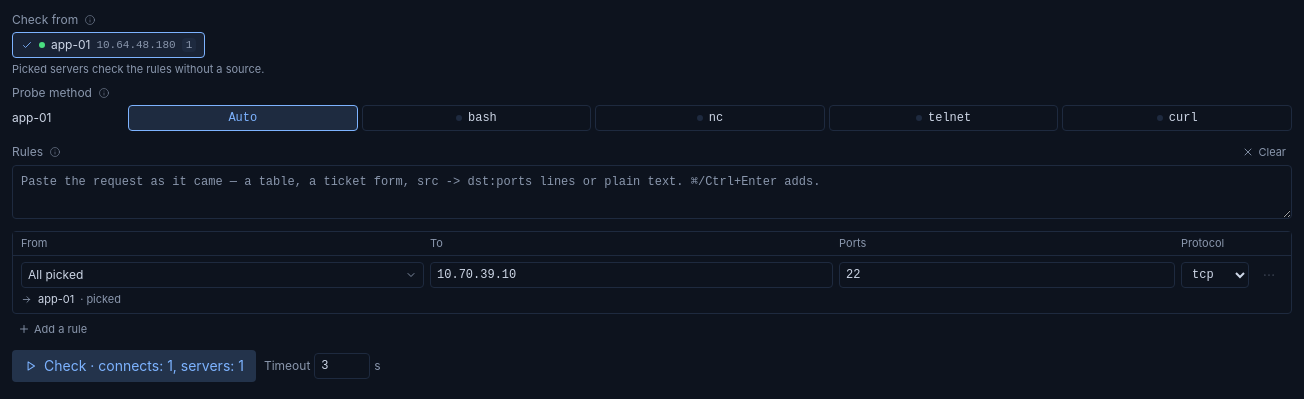
Test: UtilNetCheck › won't run rules without a source when nothing is picked, and says why
Expected: the button with test id "netcheck-run" is enabled, [12,350,256,382]
Click the button with test id "netcheck-pick".
click(109, 45)  # box [13,33,204,57]
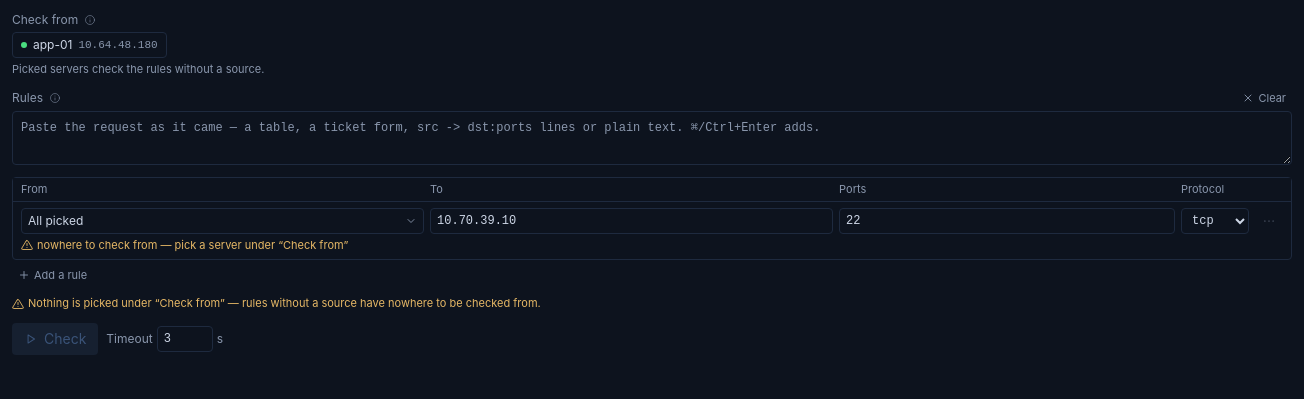
Expected: the element with test id "netcheck-route-none" is shown, [21,238,348,253]
Expected: the element with test id "netcheck-pick-none" is shown, [12,296,541,310]
Expected: the button with test id "netcheck-run" is disabled, [12,323,98,355]
